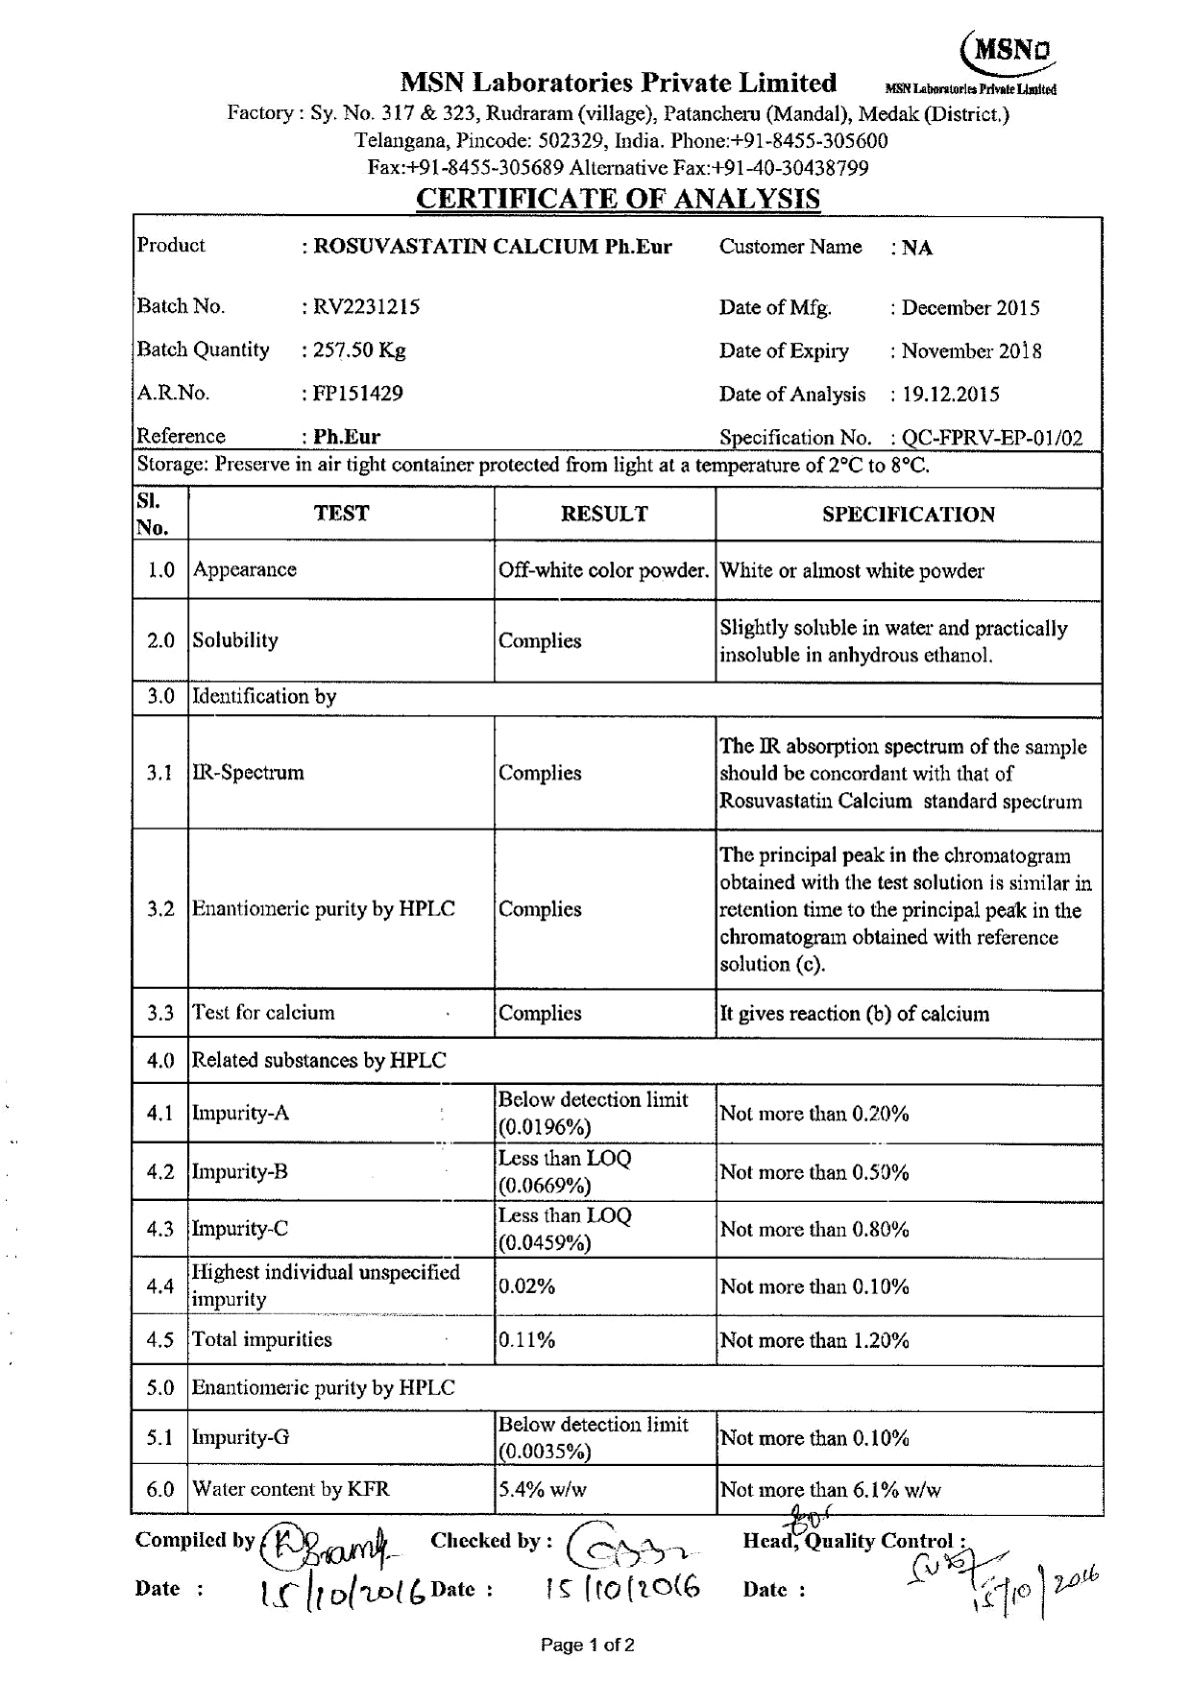partial_lined_merged_cells: (129, 211, 1106, 1518)
